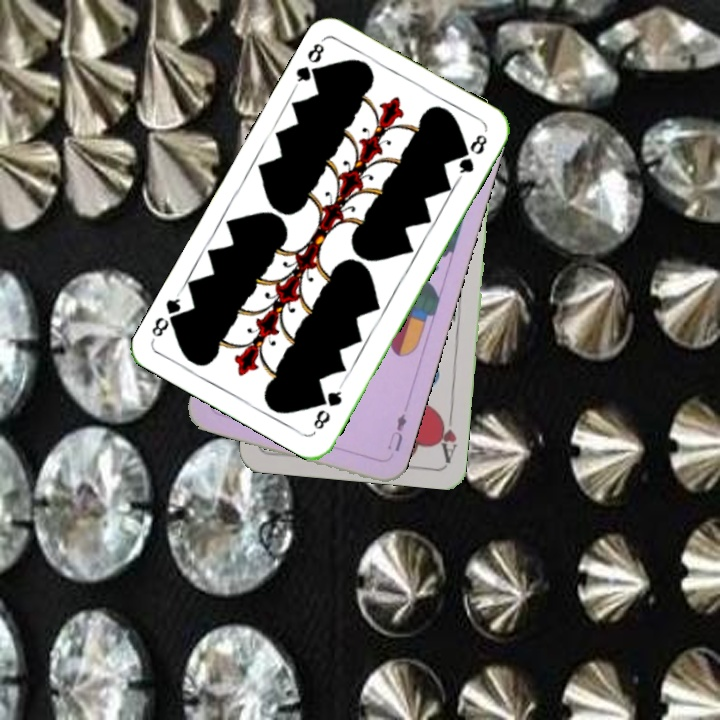EU: (383, 409, 409, 454)
G8: (290, 36, 327, 90), (309, 381, 345, 432)
HA: (433, 404, 460, 464)
